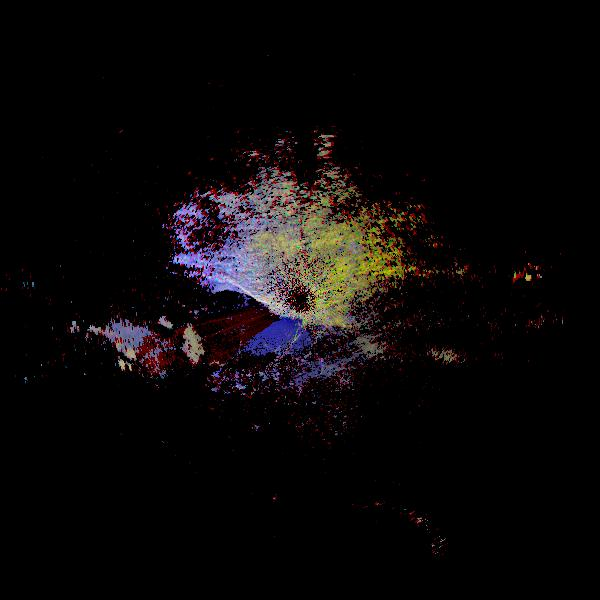roost: (135, 310, 210, 385), (68, 321, 140, 393)
